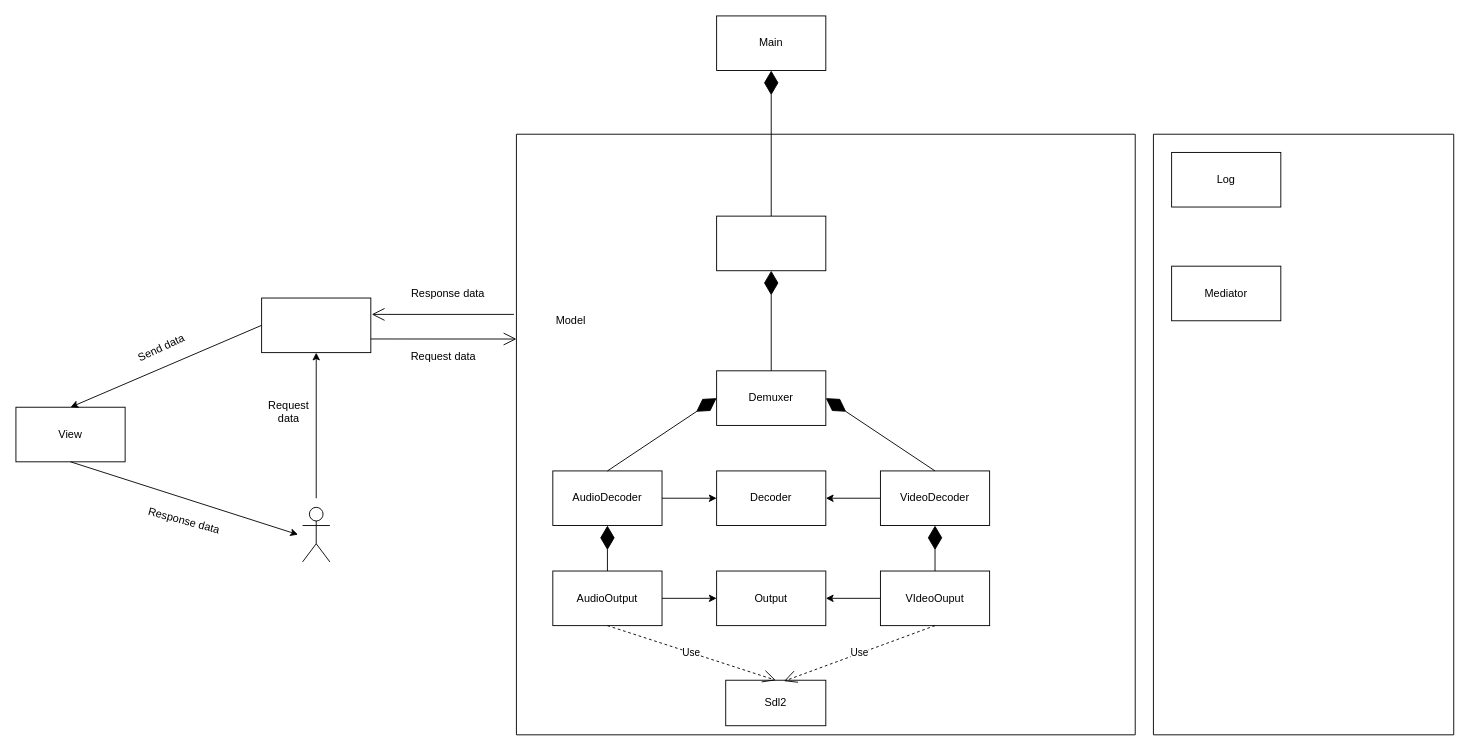
The diagram is 1470 pixels wide and 751 high, and some of its shapes have lost their labels. Each missing label, with the centre of its shape:
"Actor" belongs at pixel 316 534.
"Controller" belongs at pixel 316 325.
"Player" belongs at pixel 771 243.
"Utilities" belongs at pixel 1303 434.
